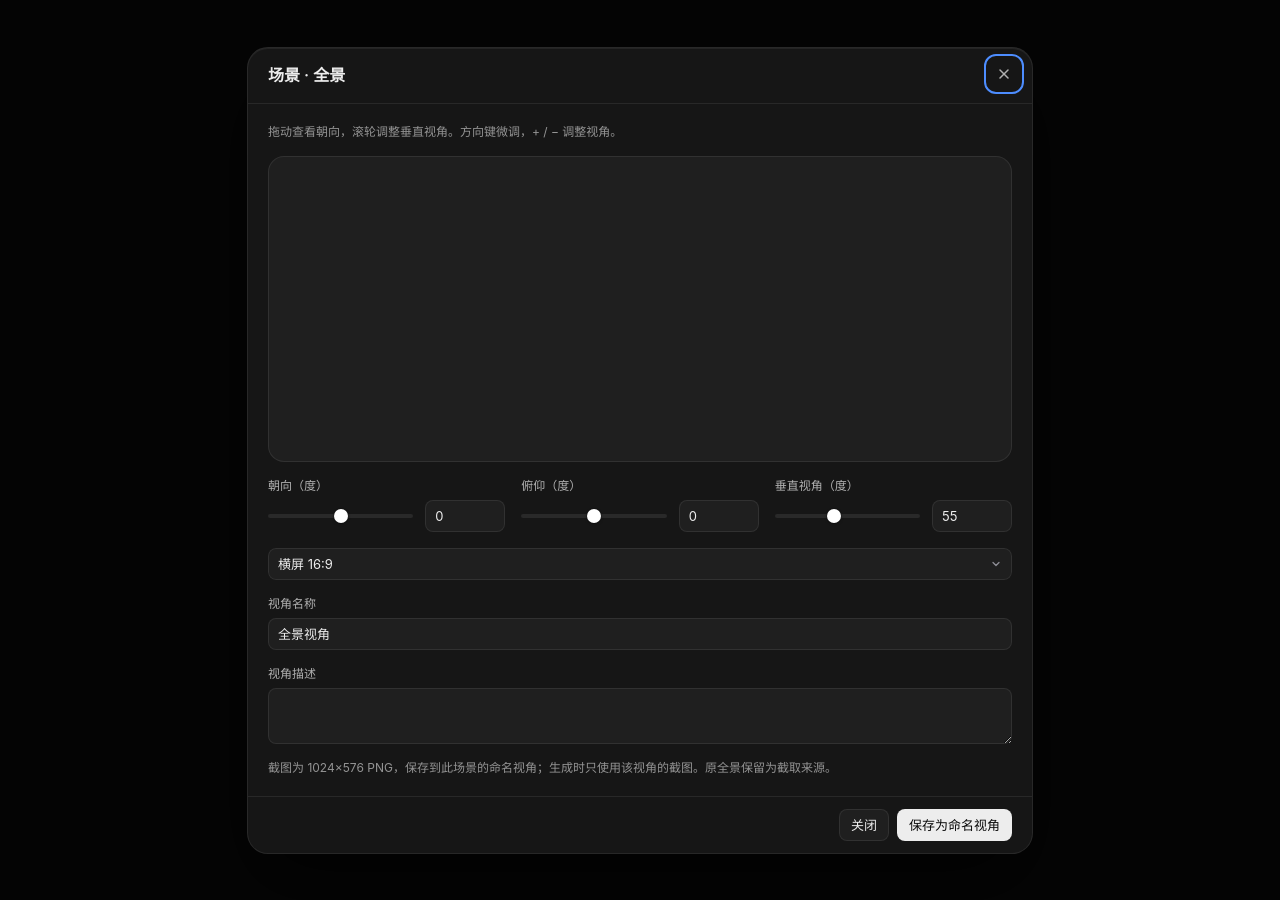
Test: 场景冲突保留设置并要求重新核对，不能重复提交旧截图
The image size is (1280, 900).
Clear the field labelled "视角名称" at (640, 634), box [268,618,1012,650]
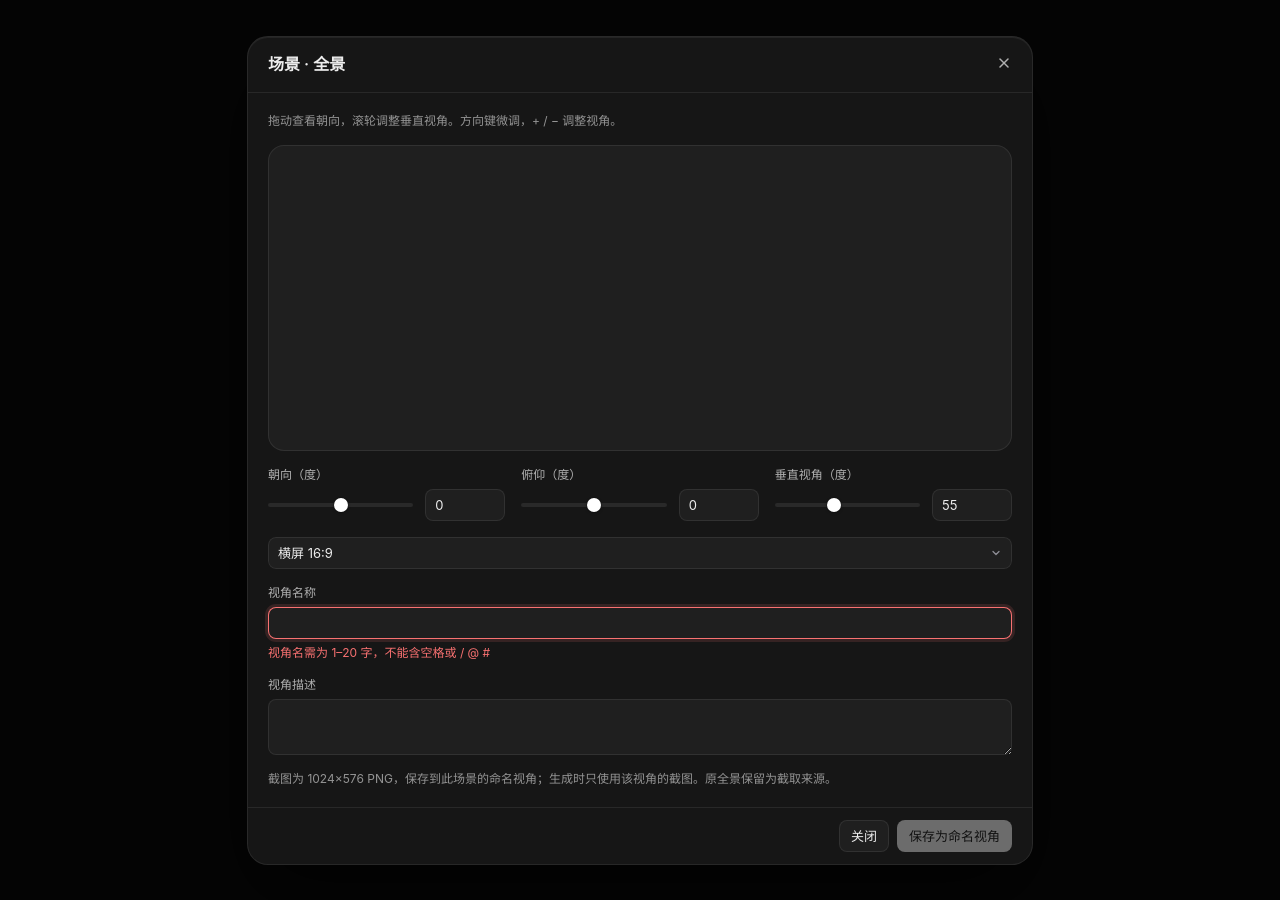
Type "窗边反打" into the field labelled "视角名称" at (640, 622), box [268,606,1012,638]
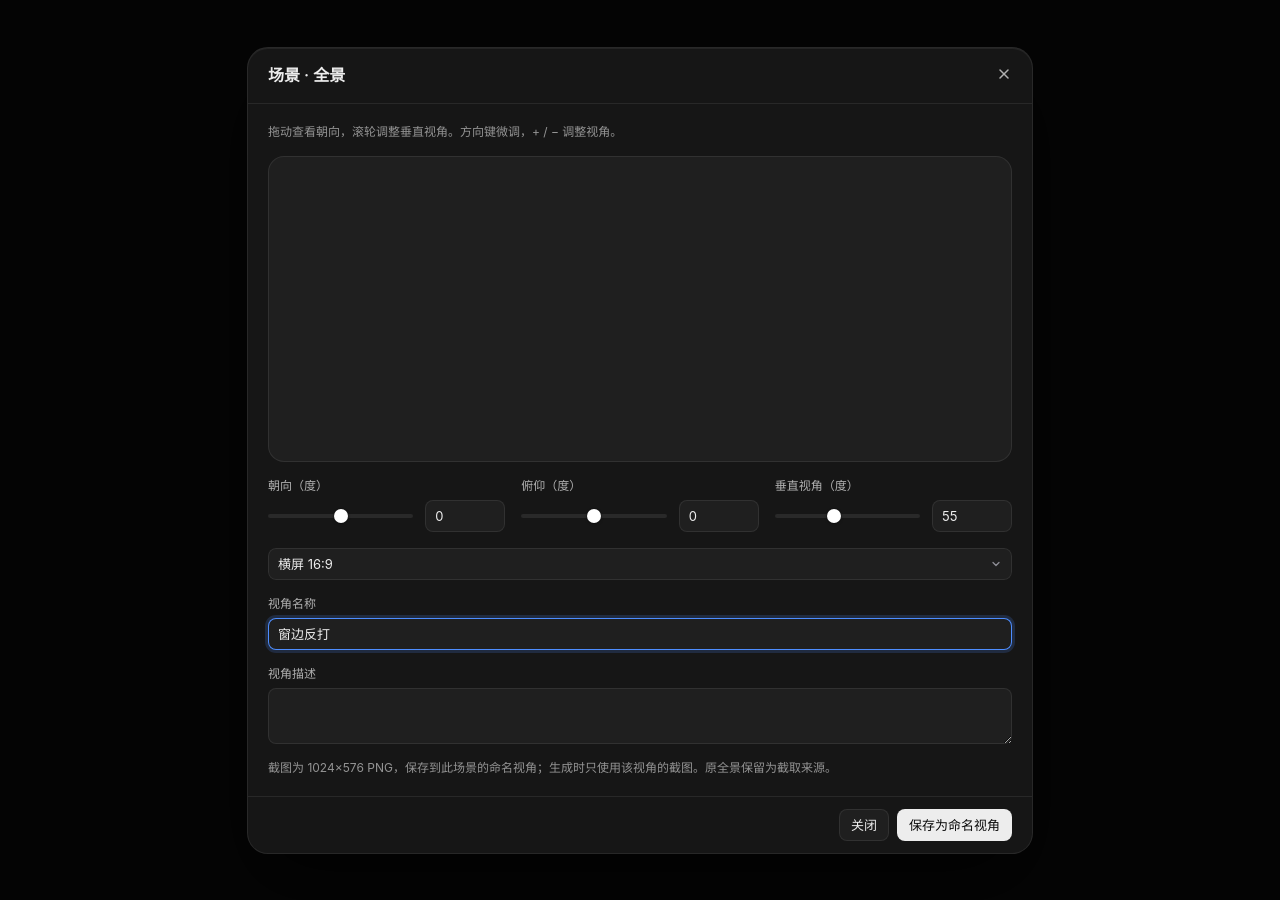
Click the button "保存为命名视角" at (954, 824), box [897,808,1012,840]
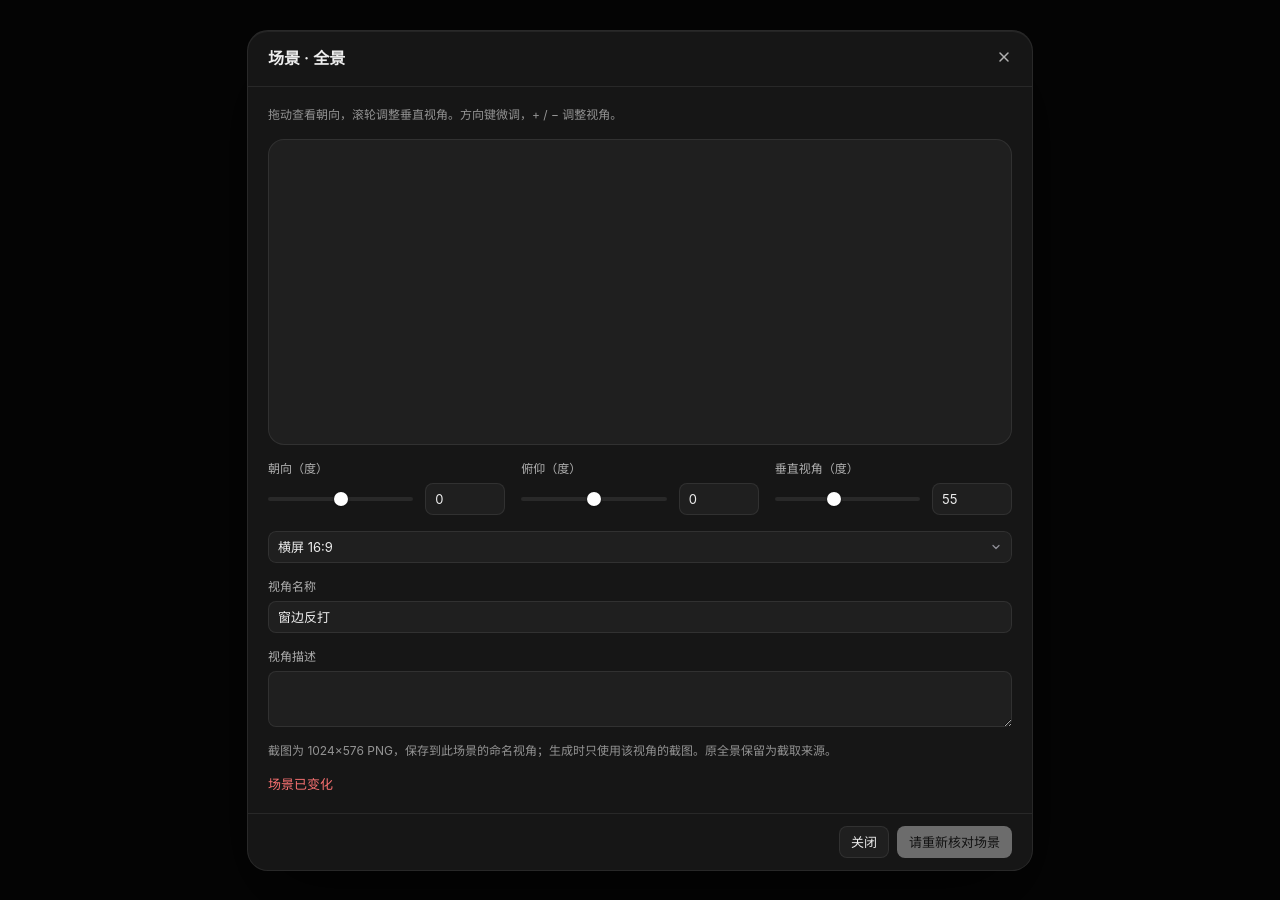
Result: the message reads "场景已变化" at [268,776,333,792]
Result: the button "请重新核对场景" is disabled at [897,826,1012,858]
